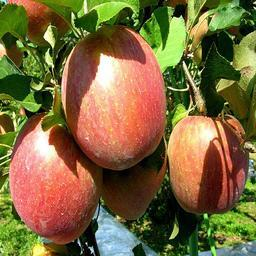apple: (59, 26, 166, 168), (8, 122, 98, 246), (165, 108, 251, 217), (99, 157, 164, 219)
